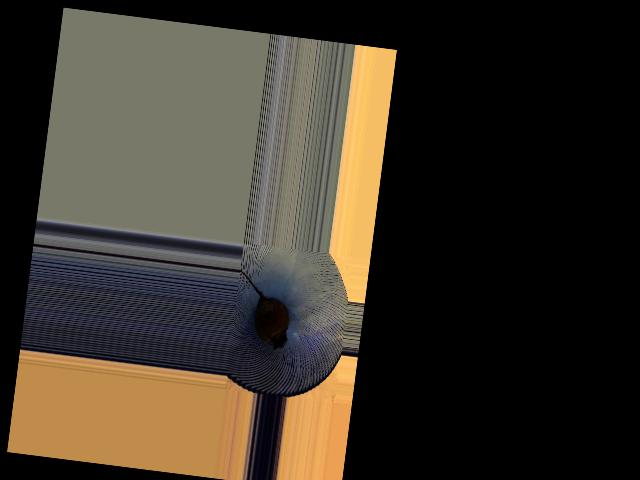beet: (230, 270, 294, 350)
